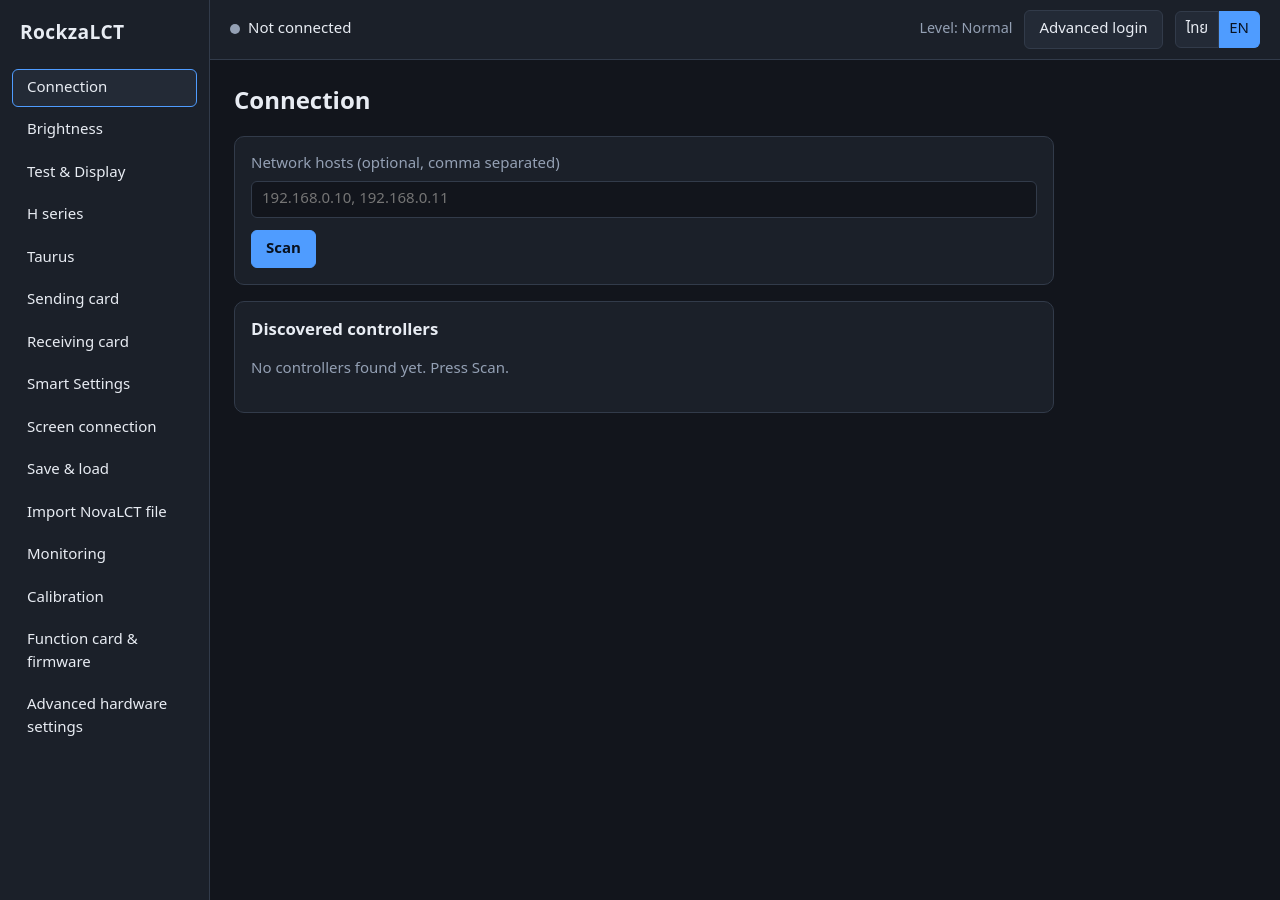
it: AdvancedSettingsPage: what is shown › lists every value with current, default, explanation, checklist step and a red "from NovaLCT, not tested" tag
Click the button "Advanced hardware settings". click: (104, 717)
box: [12,686,197,747]
(page scrolled)
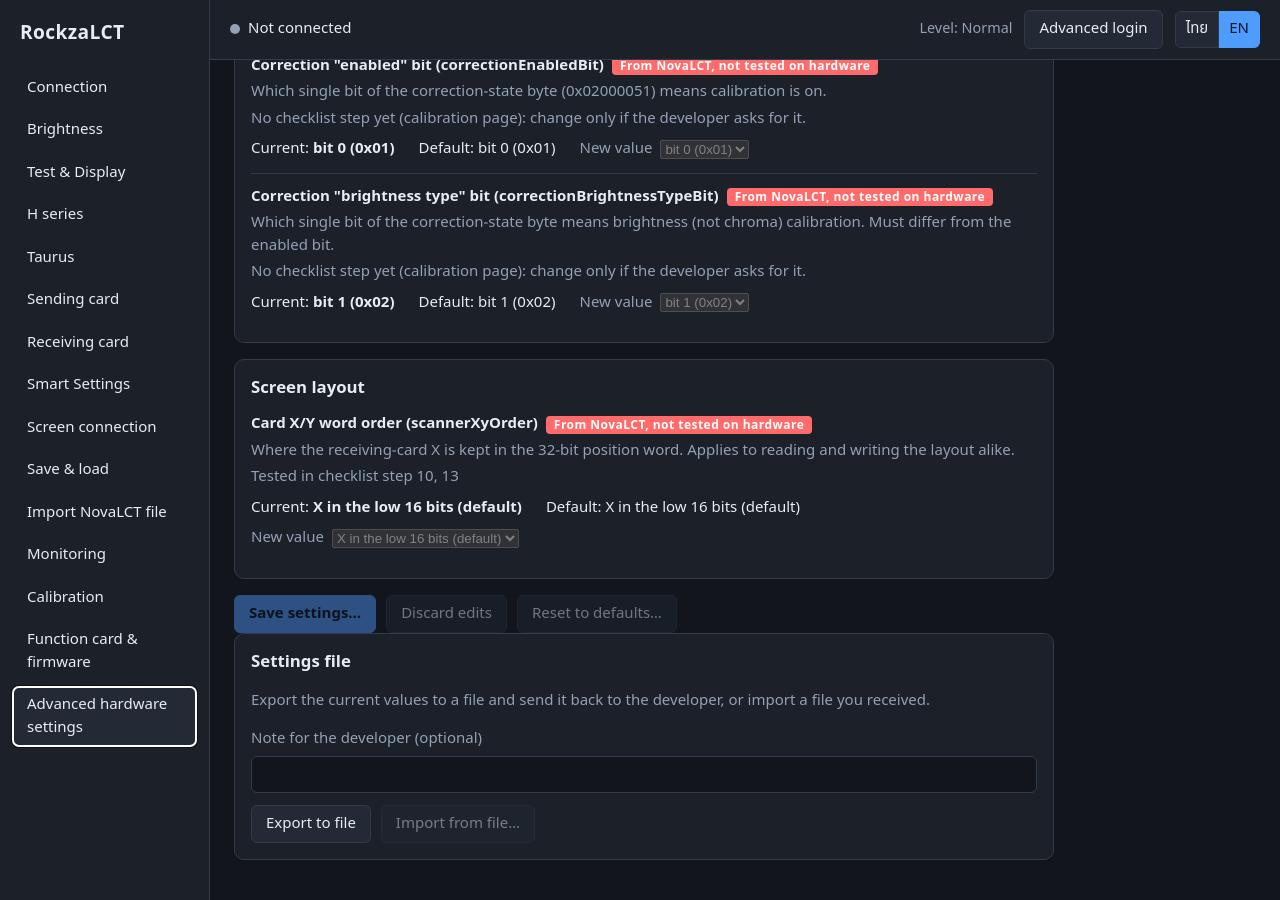
Expected: the text "Correction \"brightness type\" bit (correctionBrightnessTypeBit)" is shown, [251,186,719,208]
Expected: the text "Which single bit of the correction-state byte means brightness (not chroma) calibration. Must differ from the enabled bi" is shown, [251,211,1011,257]
Expected: the text with test id "adv-current-correctionBrightnessTypeBit" reads "bit 1 (0x02)", [313,291,394,314]
